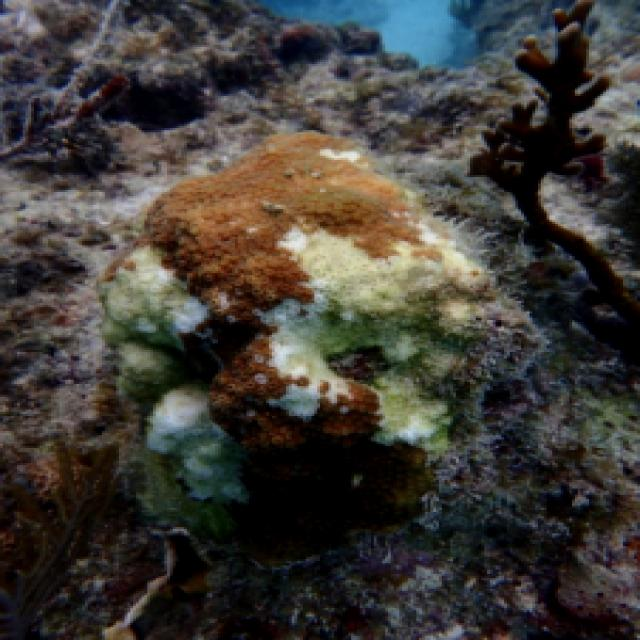Coral: (92, 128, 549, 572), (463, 0, 640, 371)
